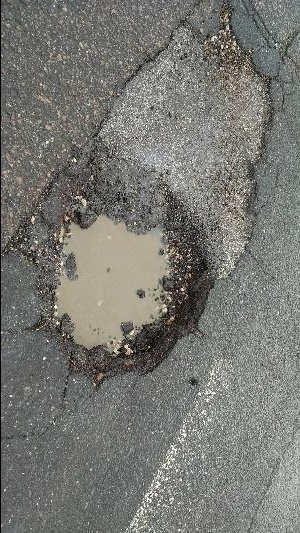pothole: (35, 188, 218, 386)
